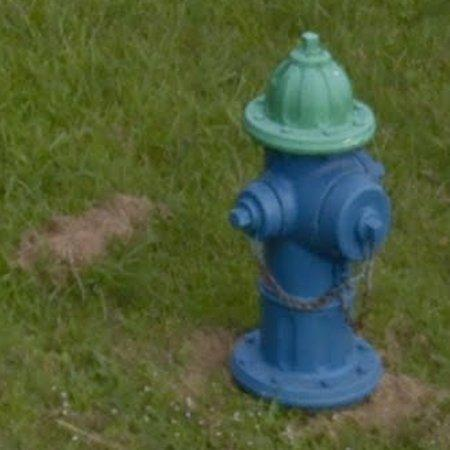a fire hydrant: (231, 31, 392, 410)
